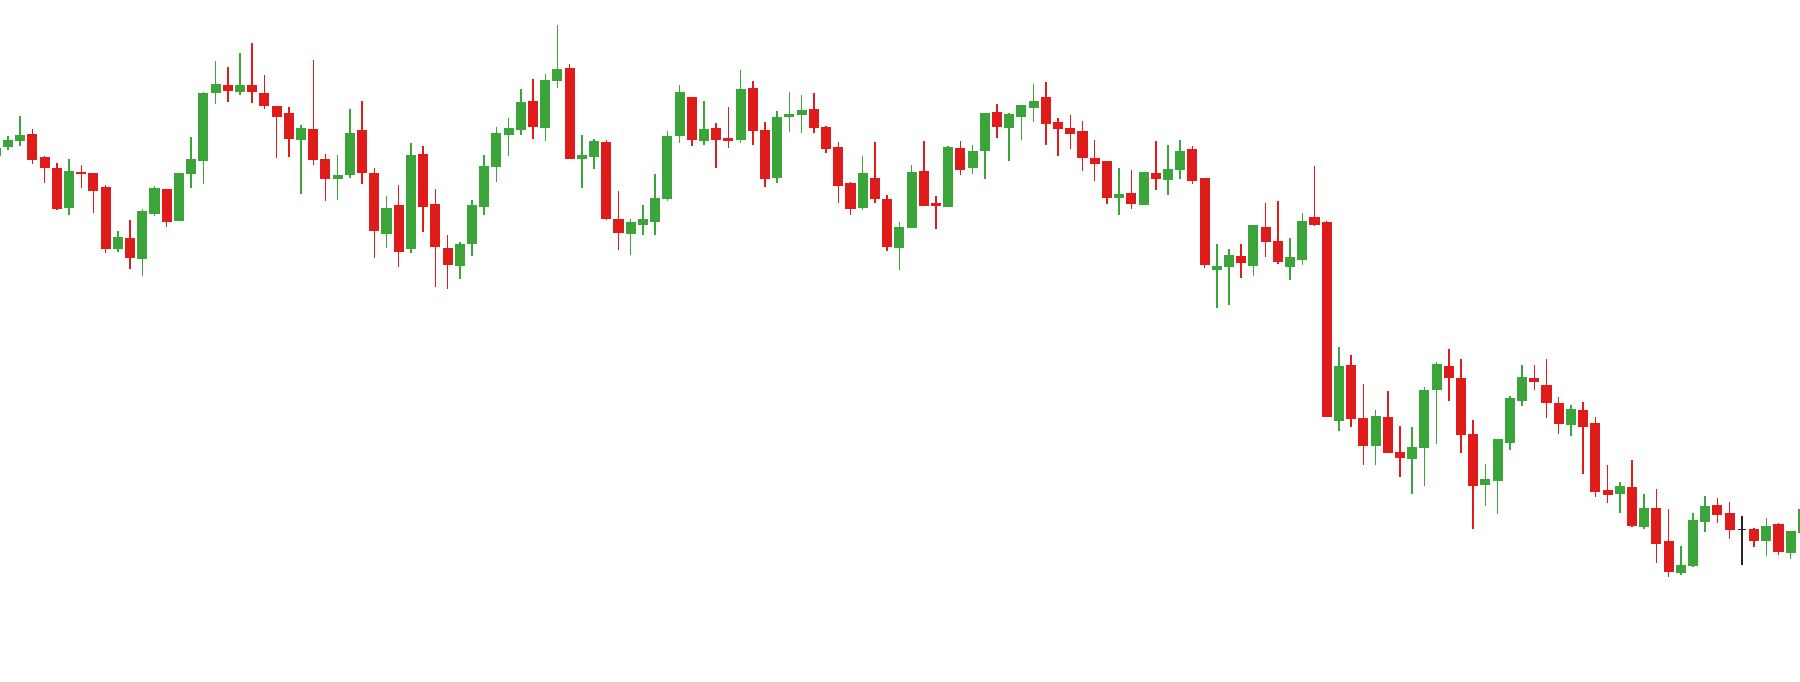sell: (1341, 347, 1454, 435), (670, 65, 760, 155), (1260, 166, 1322, 251)
